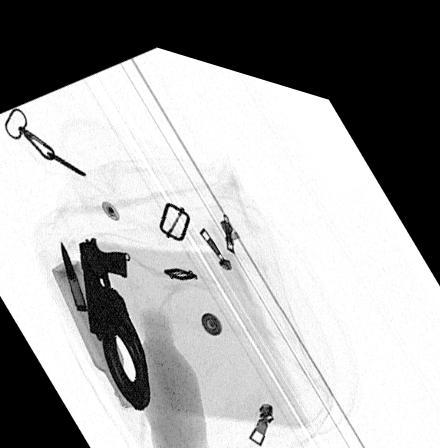Bullet: (58, 236, 87, 306)
Gun: (76, 229, 128, 330)
HandCuffs: (76, 231, 150, 403)
